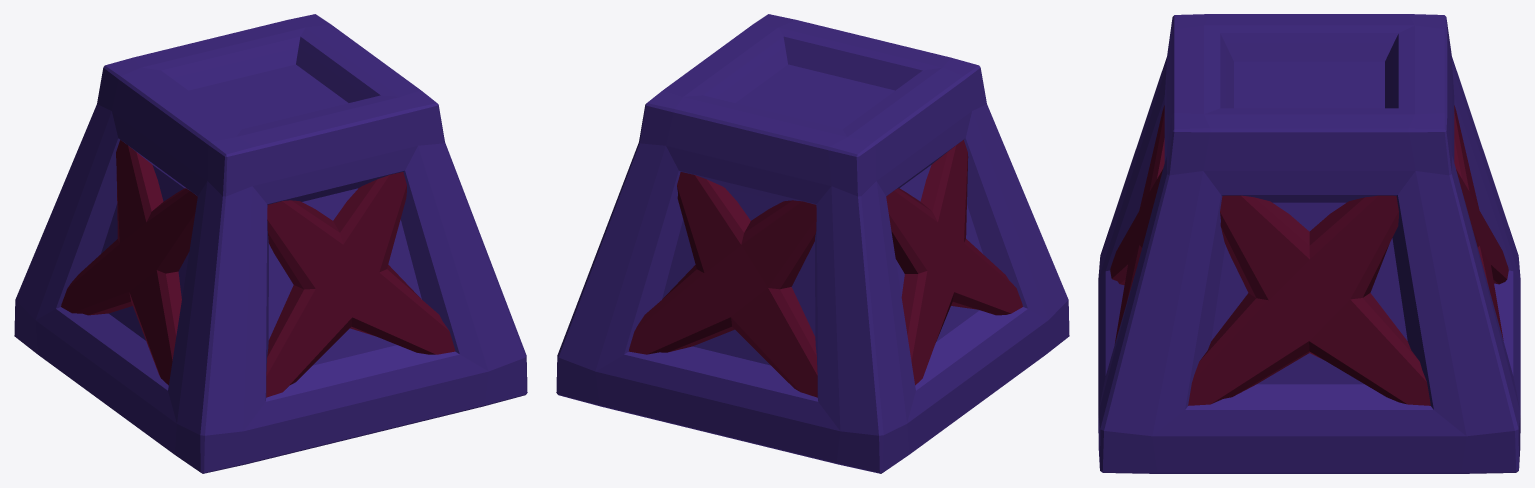
File: DropBox.fbx
3 renders of one model, left to right at view 1: azimuth 30°, elevation 25°; view 2: azimuth 150°, elevation 25°; view 3: azimuth 270°, elevation 25°, orthographic. The views are drawn at different scales.
Visible parts, largest first — view 1: DropBox; view 2: DropBox; view 3: DropBox.
Part boxes in pixels (x1=…): DropBox: x1=14, y1=14, x2=527, y2=473; DropBox: x1=556, y1=14, x2=1069, y2=473; DropBox: x1=1098, y1=14, x2=1520, y2=473.
Bounding box in the file's own units: 0.842 × 0.699 × 0.842.
